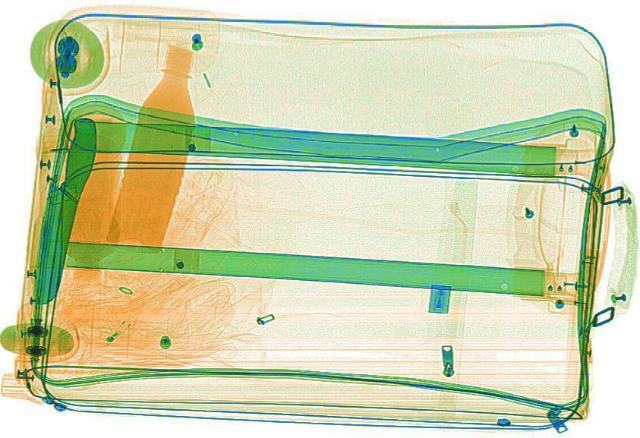Knife: (20, 114, 102, 302)
